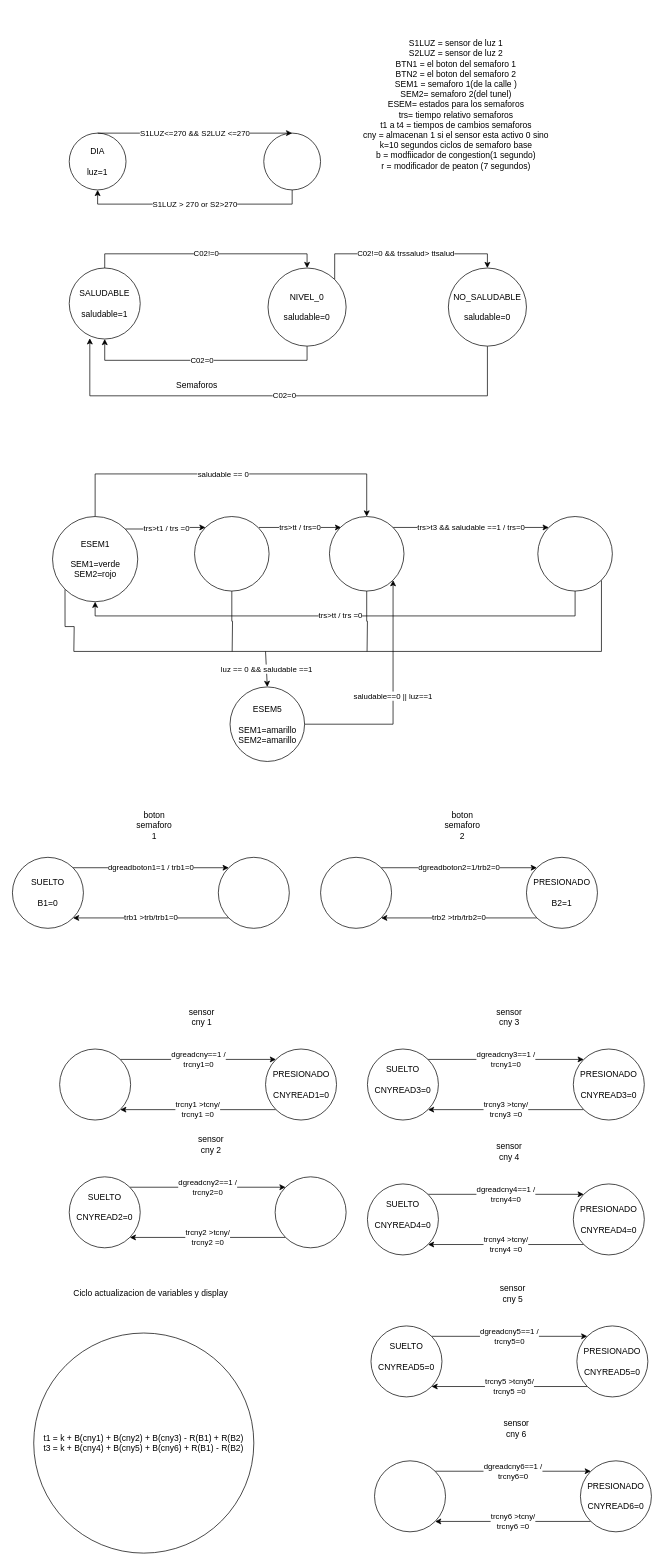
Image size: 664x1566. Some labels were removed from this diagram. The shapes that lost their labels are listed below. From the top down, each one's box as (x1, y1, x2, y2) in pixels, then its label:
(263, 132, 321, 190): NOCHE luz=0
(194, 516, 269, 591): ESEM2 SEM1=amarillo SEM2=rojo
(329, 516, 404, 591): ESEM3 SEM1=rojo SEM2=verde
(537, 516, 612, 591): ESEM4 SEM1=rojo SEM2=amarillo
(218, 857, 289, 928): PRESIONADO B1=1
(320, 857, 392, 928): SUELTO B2=0 trb2=0
(59, 1048, 131, 1120): SUELTO CNYREAD1=0
(274, 1176, 346, 1248): PRESIONADO CNYREAD2=0
(374, 1460, 446, 1532): SUELTO CNYREAD6=0
